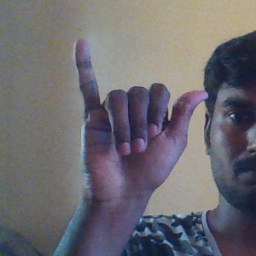J: (68, 38, 209, 197)
